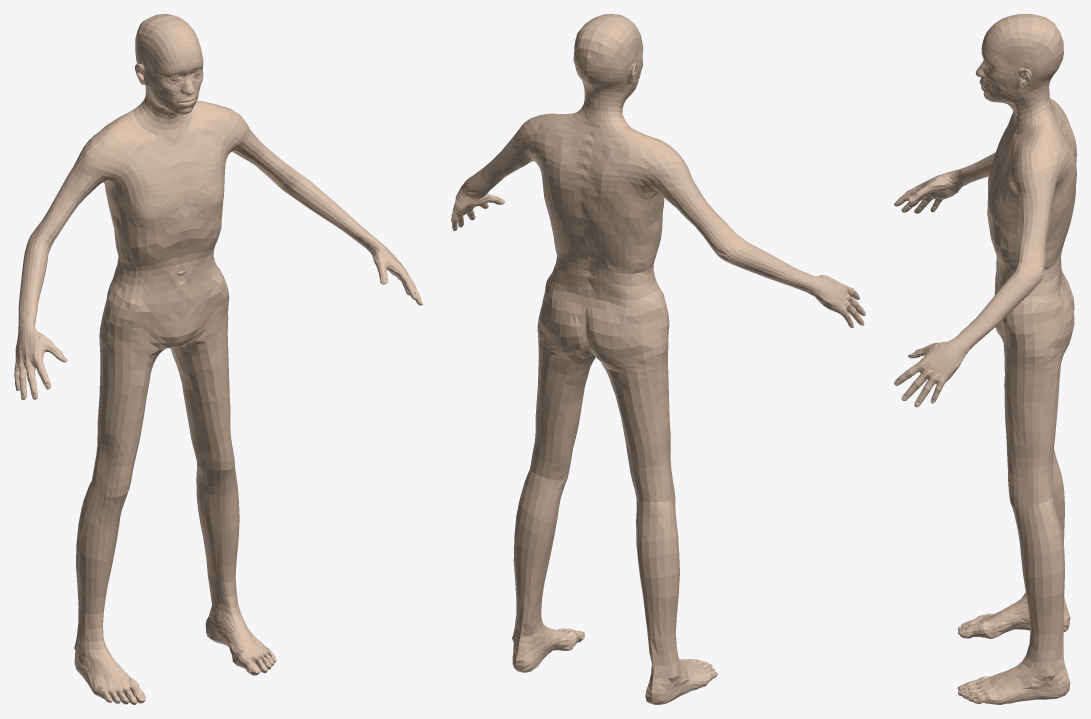
Rendered from male-mature-lean-low.glb.
3 views of the same model, side by side, from view 1: azimuth 30°, elevation 25°; view 2: azimuth 150°, elevation 25°; view 3: azimuth 270°, elevation 25° (orthographic).
Visible parts, largest first — view 1: world; view 2: world; view 3: world.
Part boxes in pixels (box(x1,y1,x2,y2)): world: box(14, 14, 422, 704); world: box(451, 14, 865, 704); world: box(894, 14, 1076, 704).
Bounding box in the file's own units: 1.25 × 1.94 × 0.4957.
